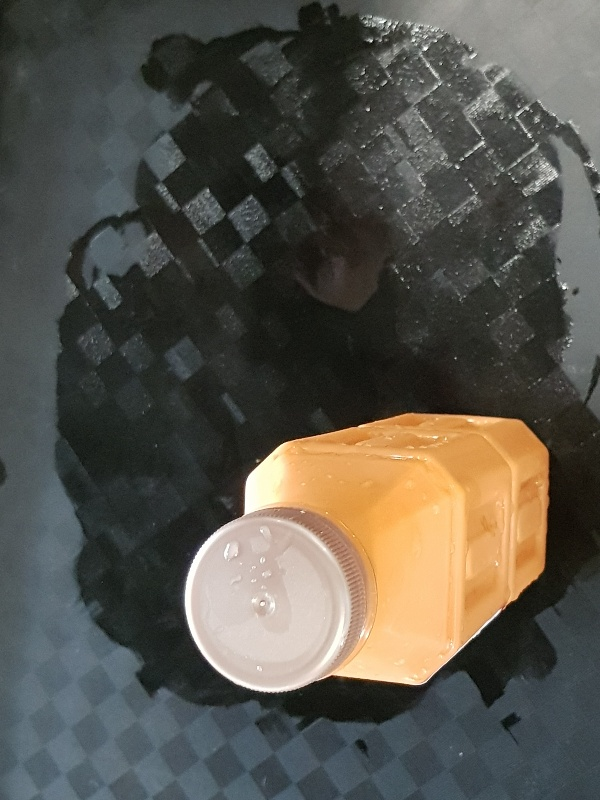Thai Milk Tea: (183, 412, 549, 692)
